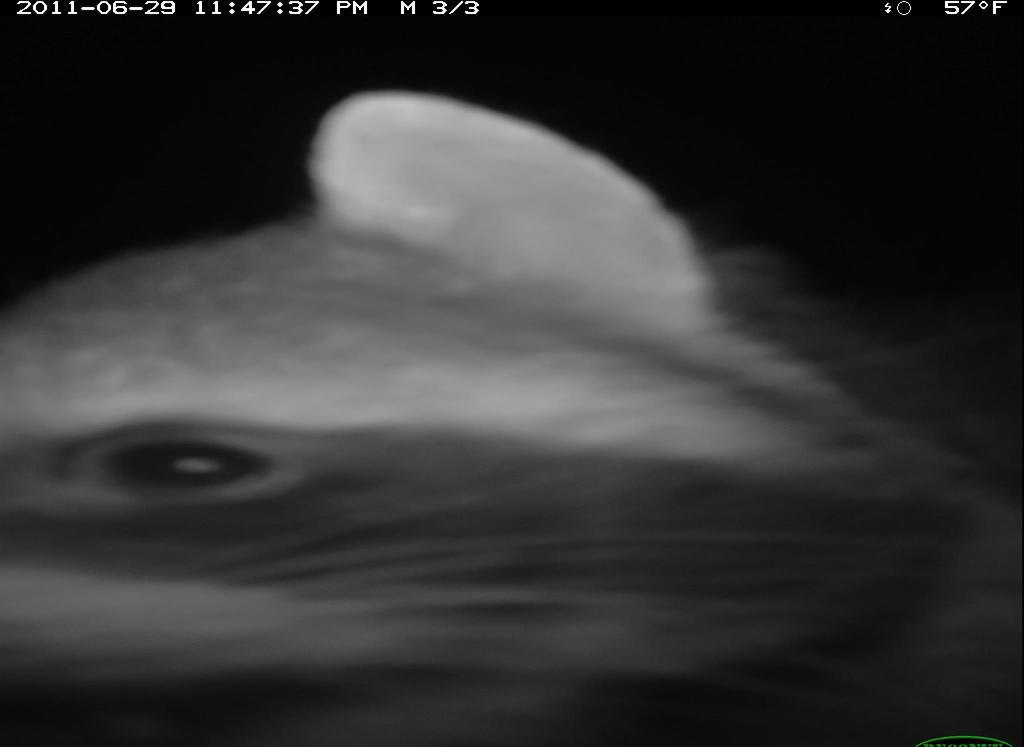raccoon: (2, 75, 1018, 747)
